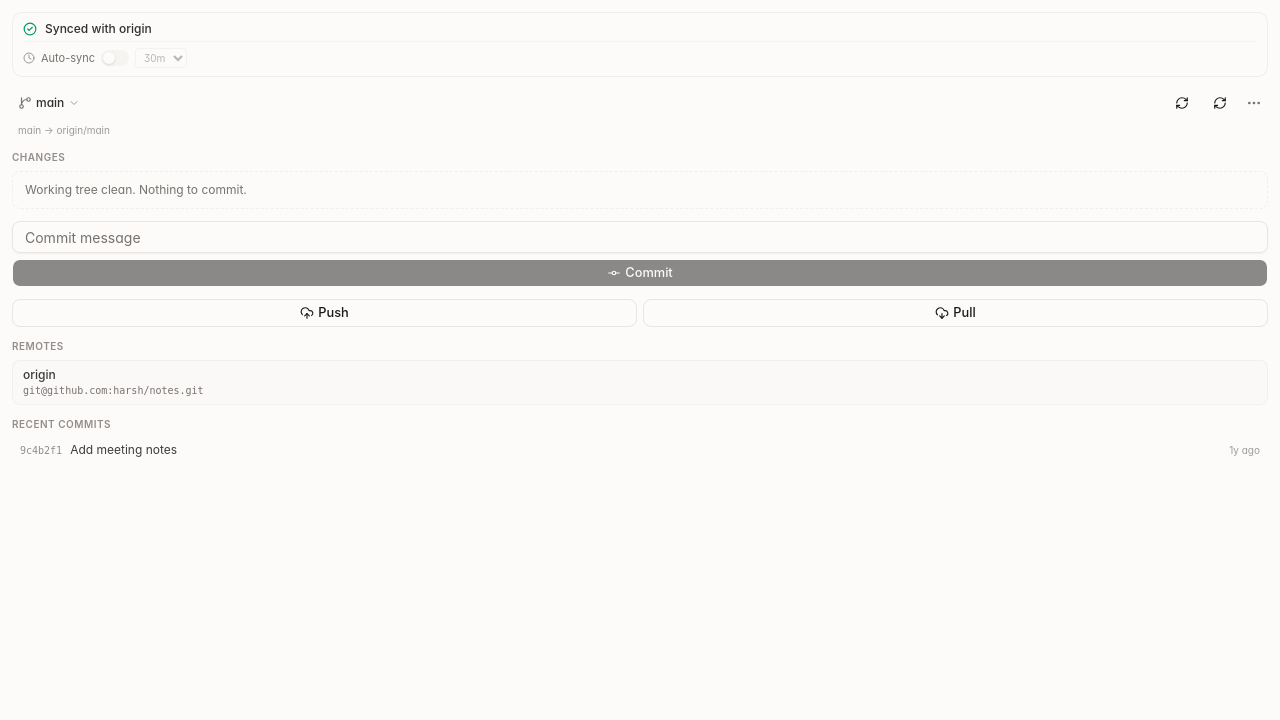
overflow menu › 'Add remote' toggles the inline remote form
What coordinates should you click on to do the following:
click the button named "More actions"
I would click on:
 (1254, 103)
Its box is [1240, 89, 1268, 117].
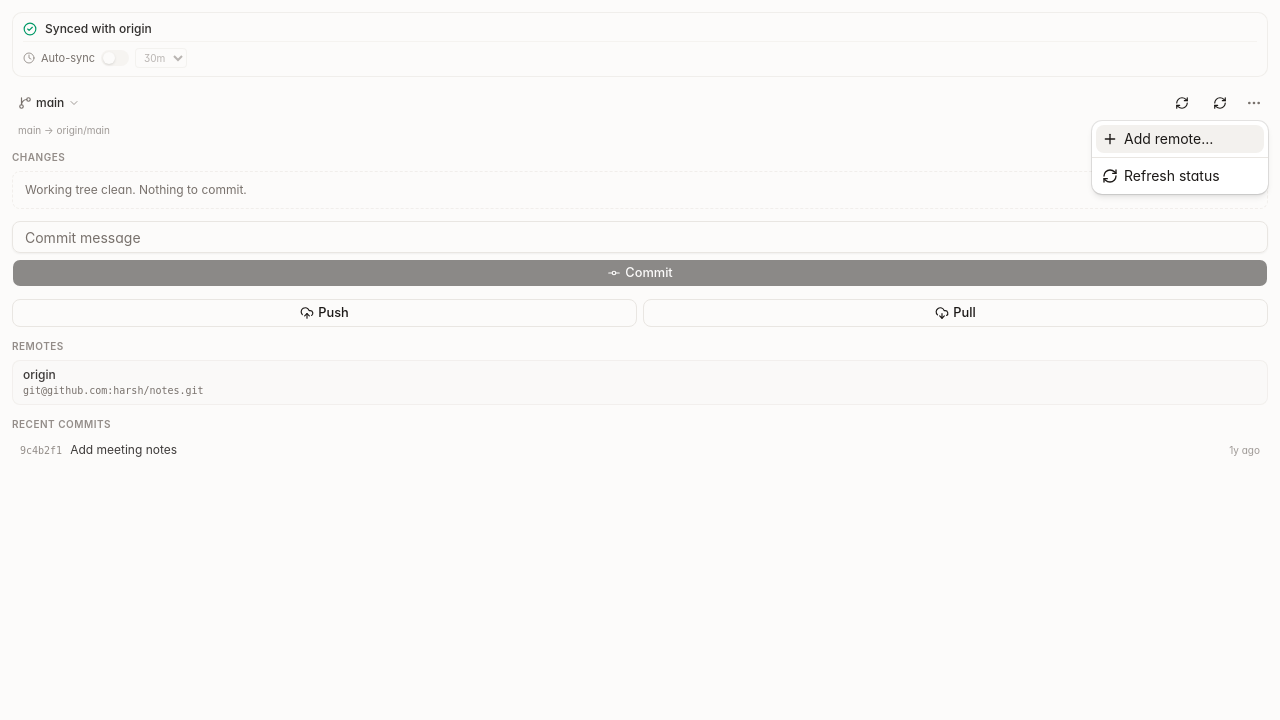
Now the menu is shown, box [1092, 121, 1268, 194]
What coordinates should you click on to do the following:
click the menu item "Add remote…"
I would click on:
 (1180, 139)
Its box is [1096, 125, 1264, 153].
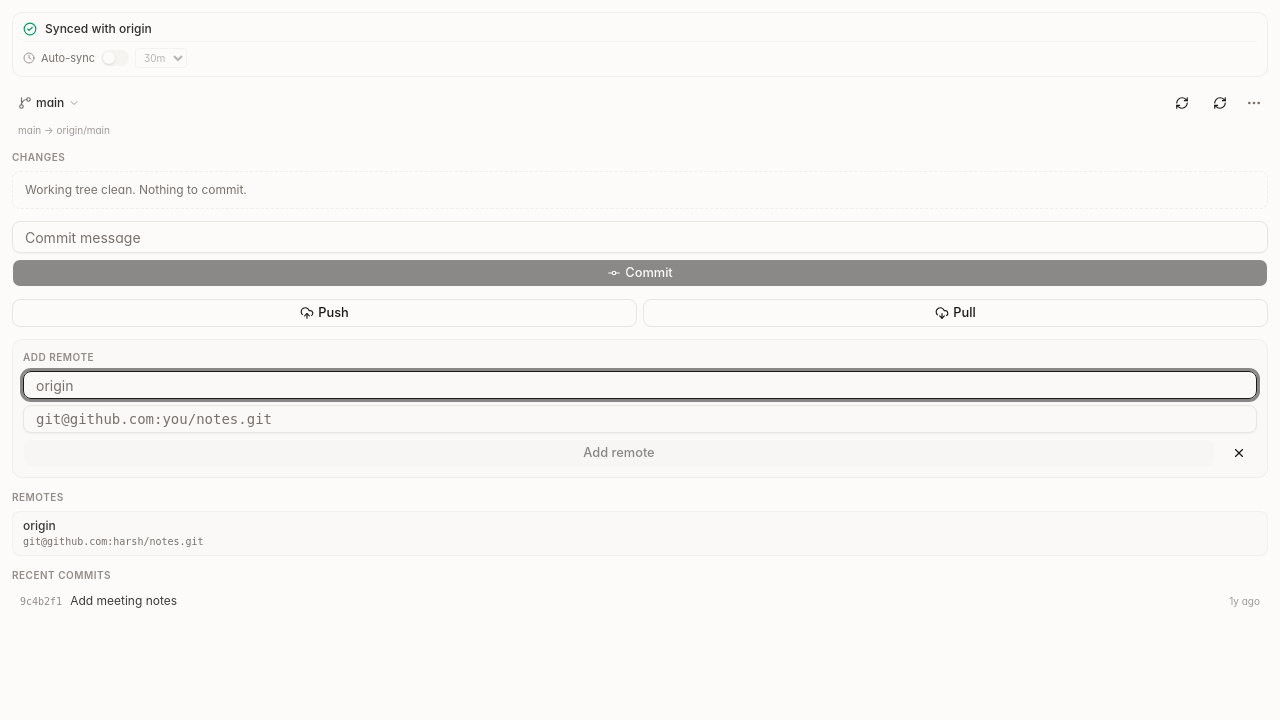
Now the field named "Remote name" is shown, box [23, 371, 1257, 399]
